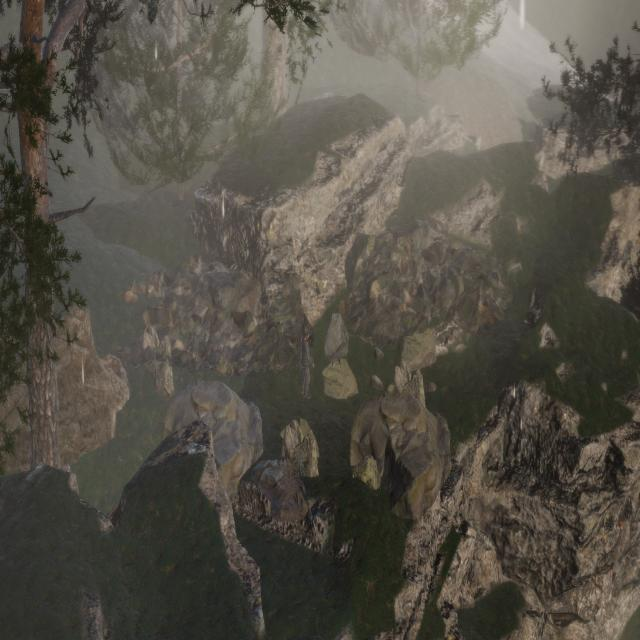Human: (290, 300, 316, 412)
